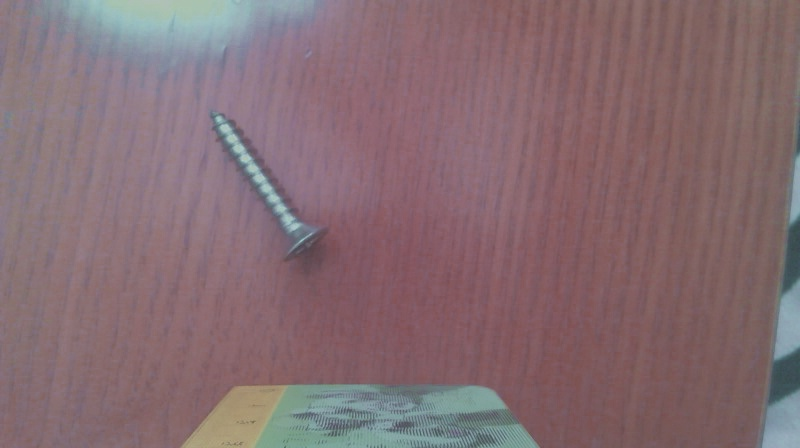S001: (206, 106, 333, 265)
